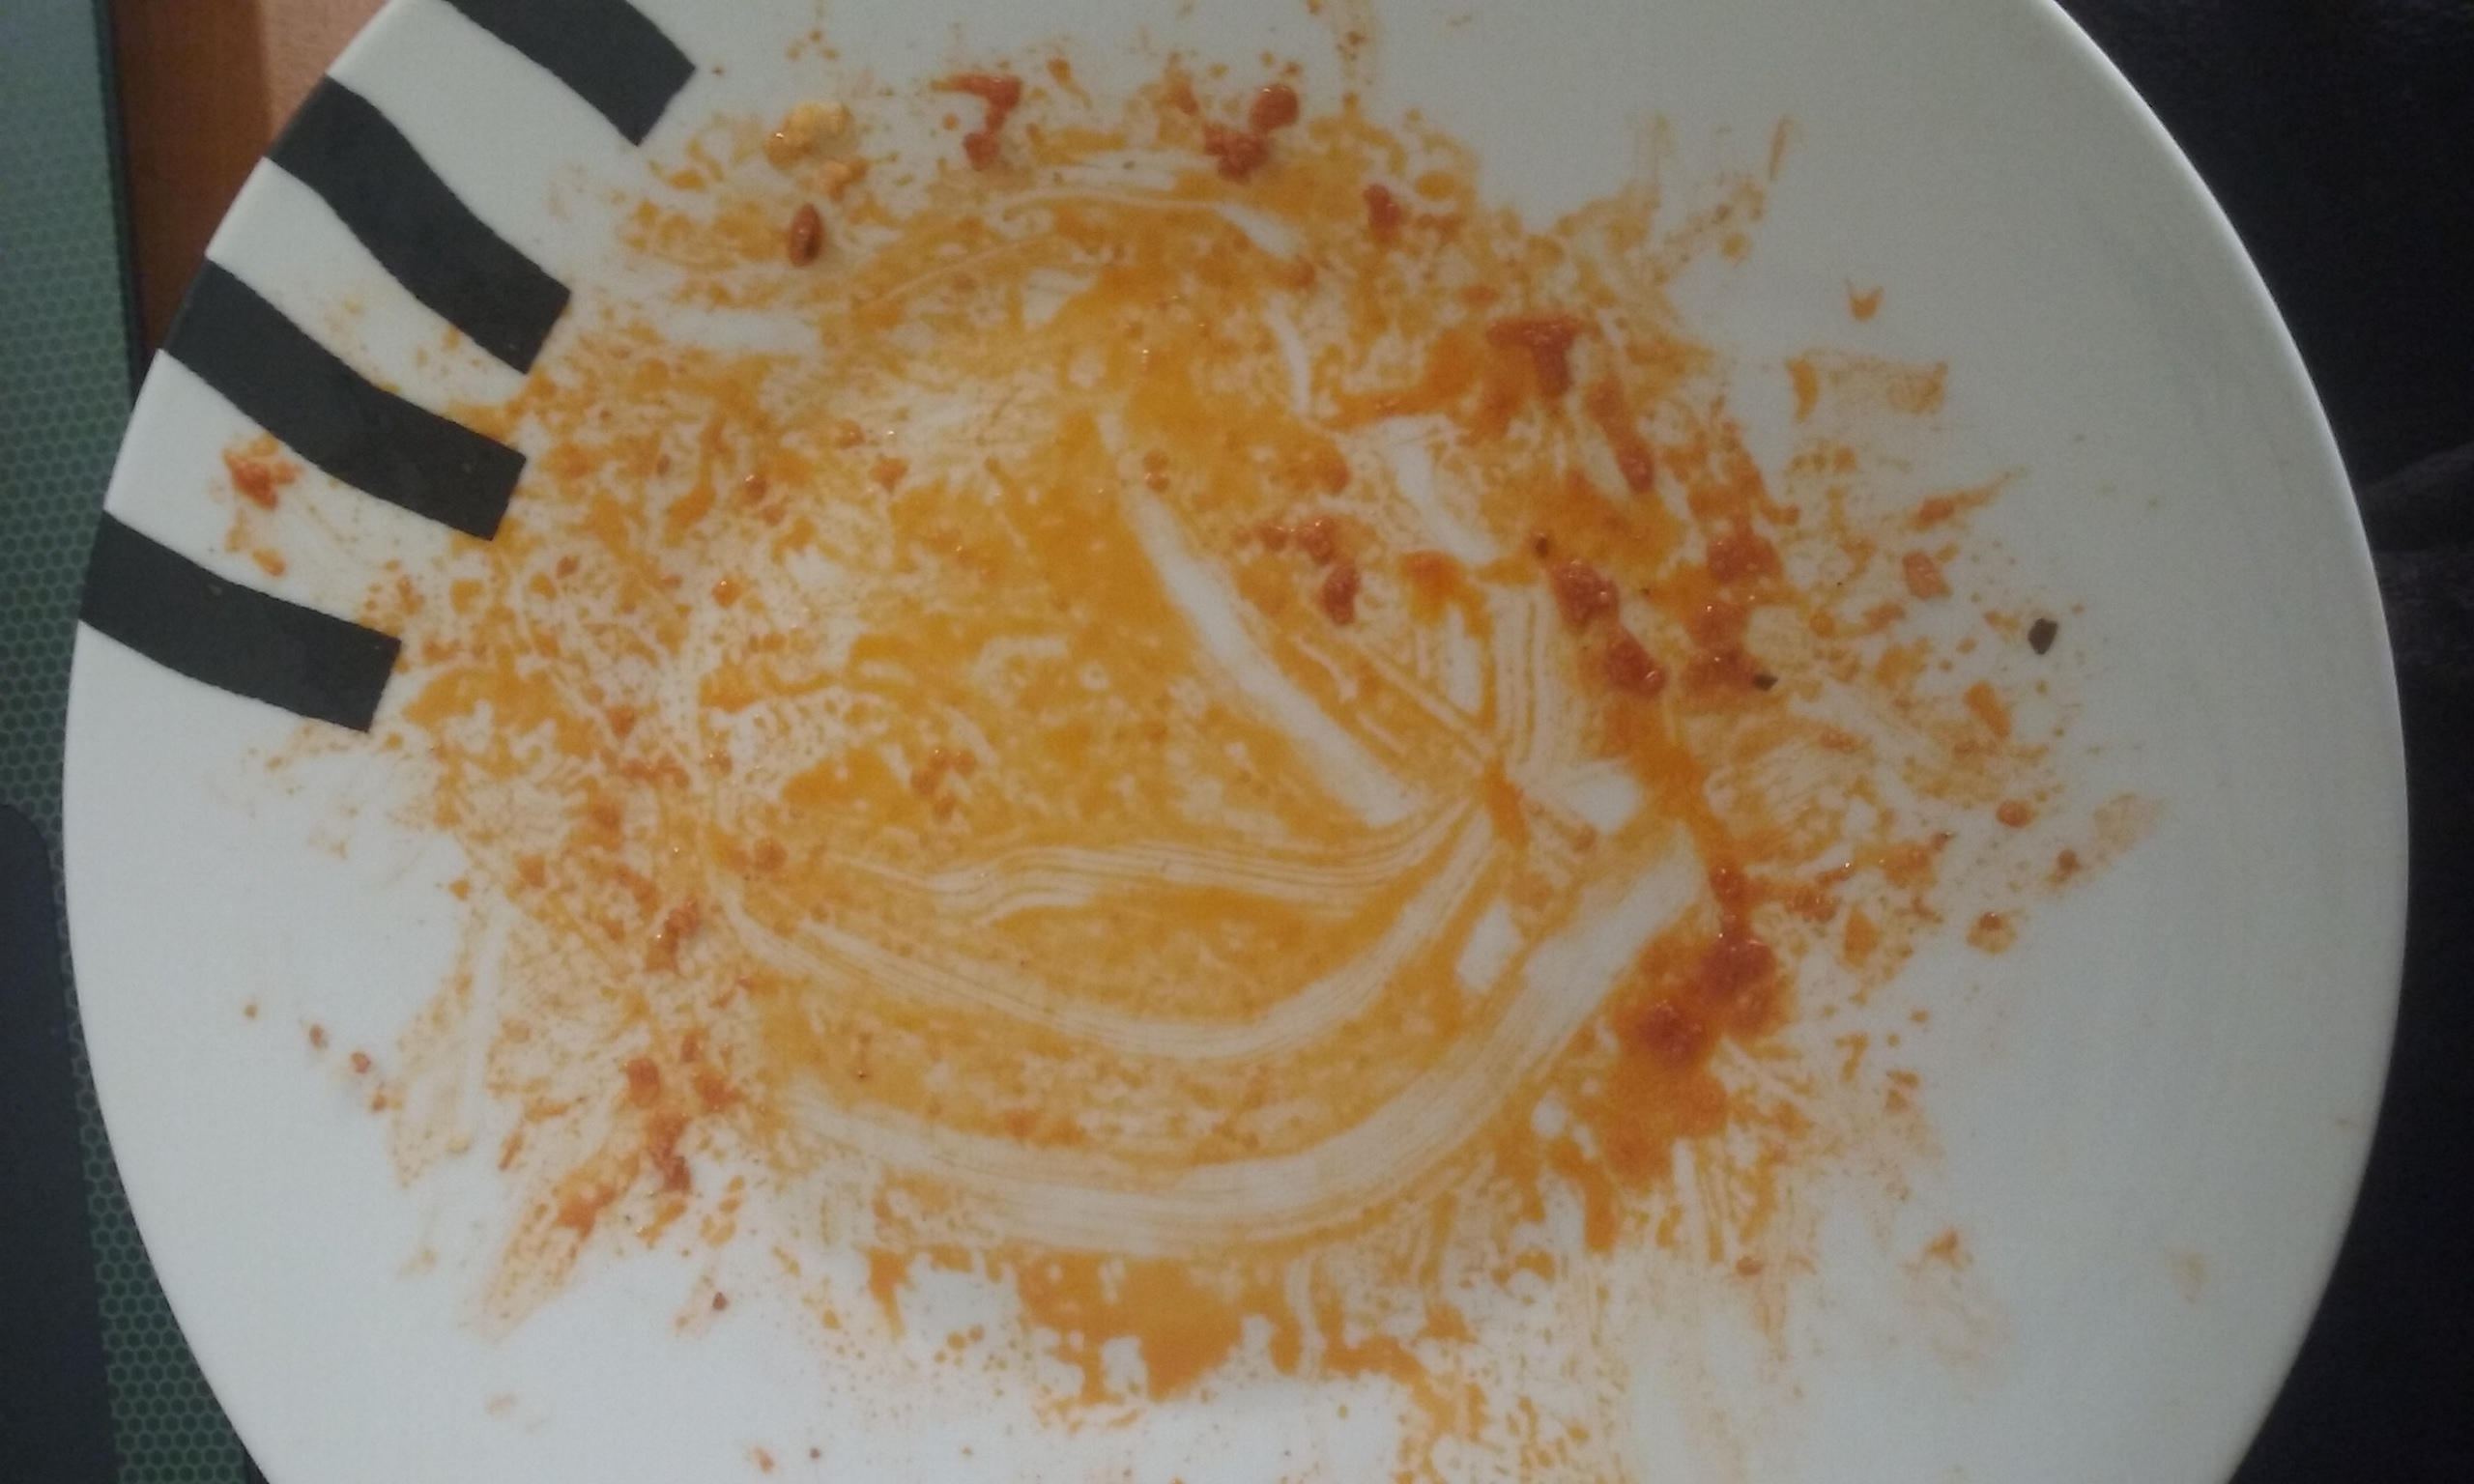0-20: (80, 7, 2394, 1470)
